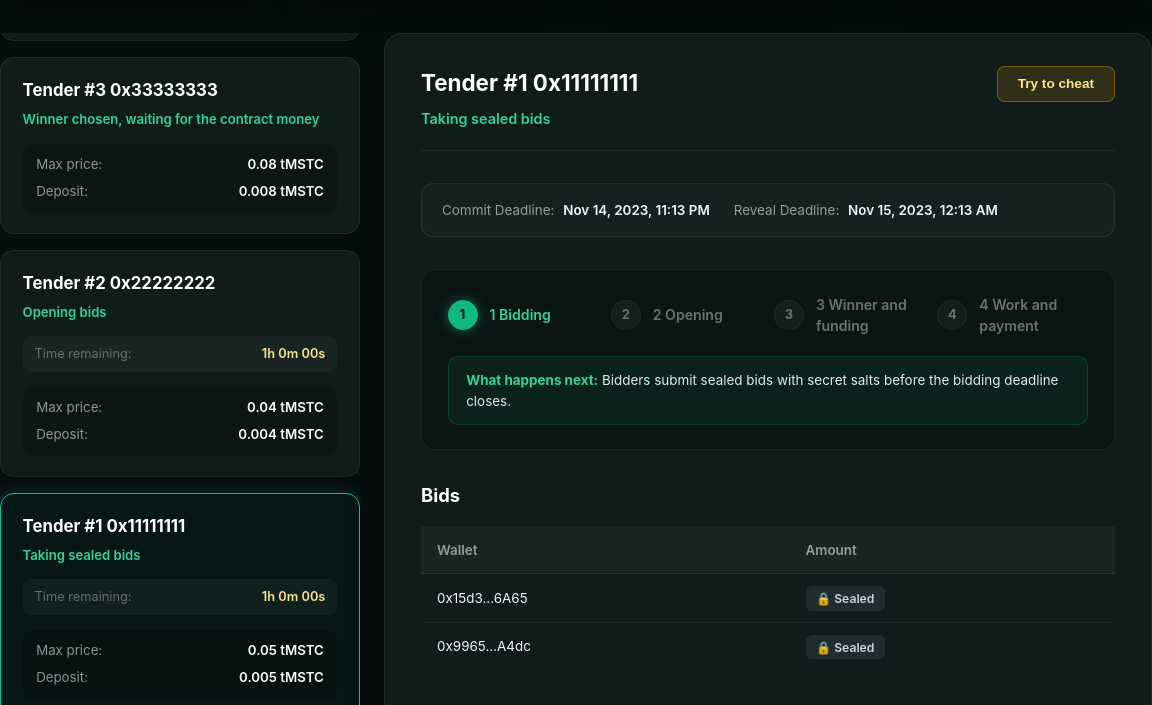
Test: PublicAuditTab Component Tests › Cheat Test B: Duplicate Bid Protection Verification › Case E: handles RPC timeout with useful error message and restores button usability
(page scrolled)
Click the button "Try to cheat".
click(1056, 84)  # box [997,66,1115,102]
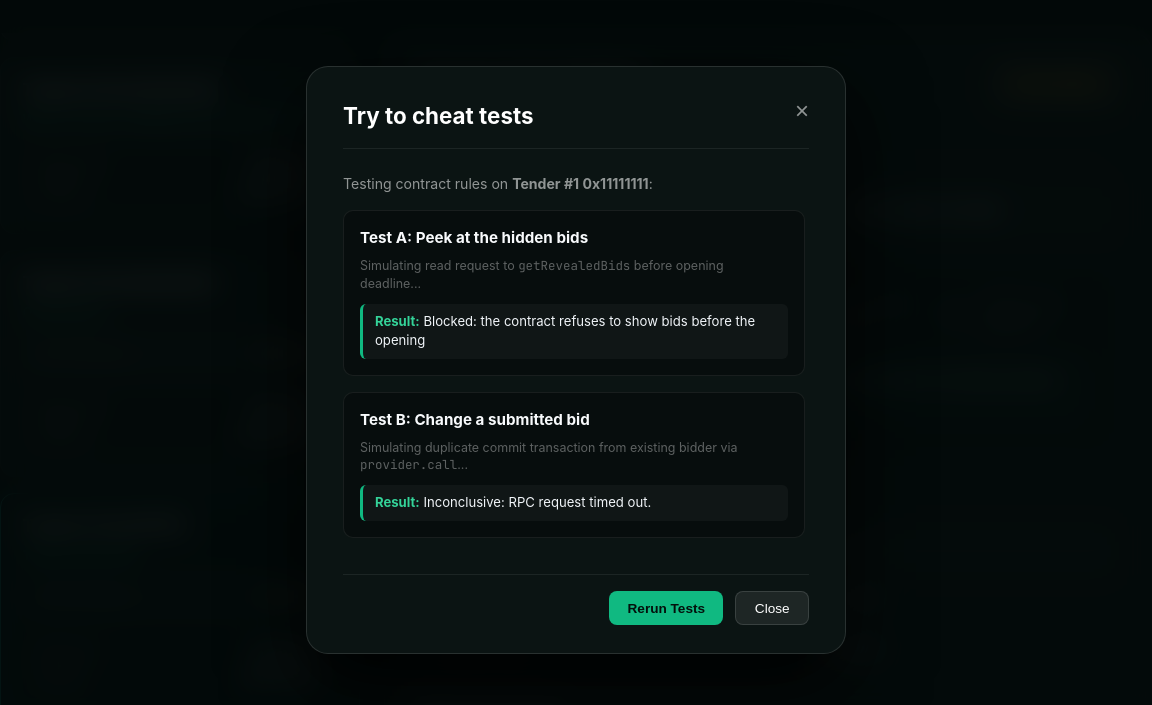
Check: the text "Inconclusive: RPC request timed out." is shown, box [423,494,651,510]
Check: the button "Rerun Tests" is enabled, box [609,591,723,625]
